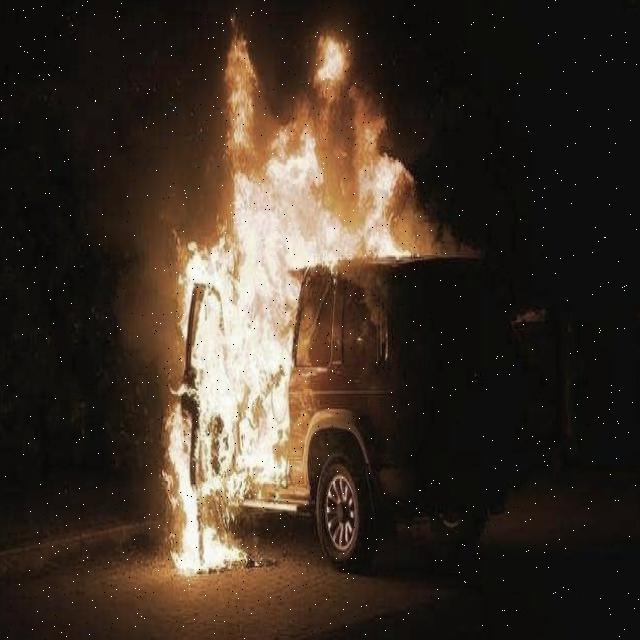fire: (203, 47, 441, 243), (178, 256, 288, 555)
